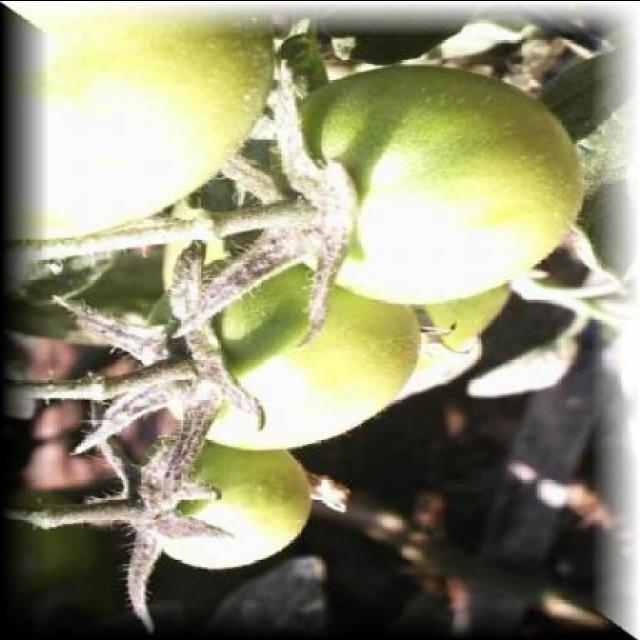Tomato: (167, 35, 587, 351), (60, 238, 428, 492), (0, 2, 275, 245), (90, 398, 312, 630)
